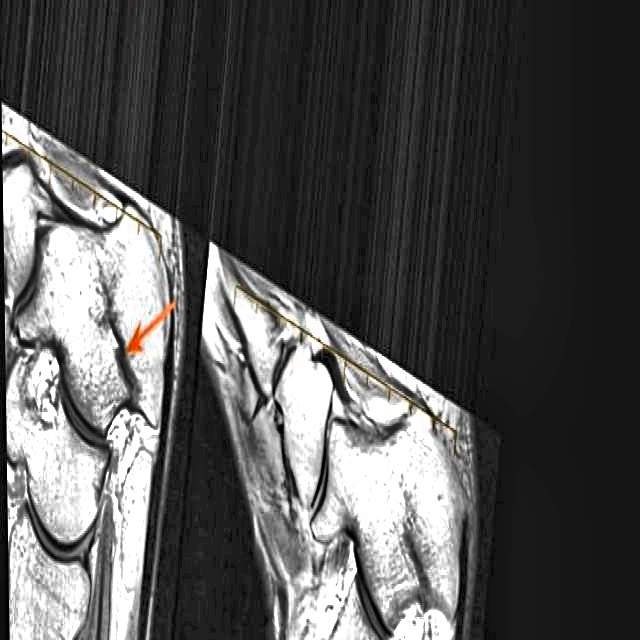Oblique Displaced: (97, 312, 144, 432)
